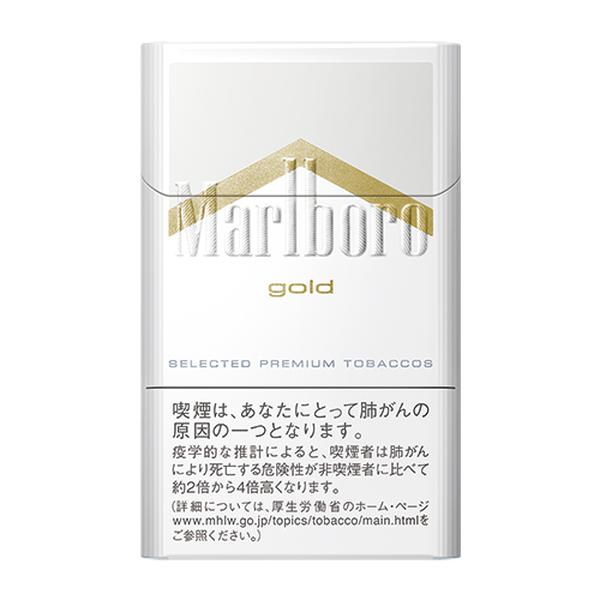marlboro_gold: (155, 49, 453, 556)
